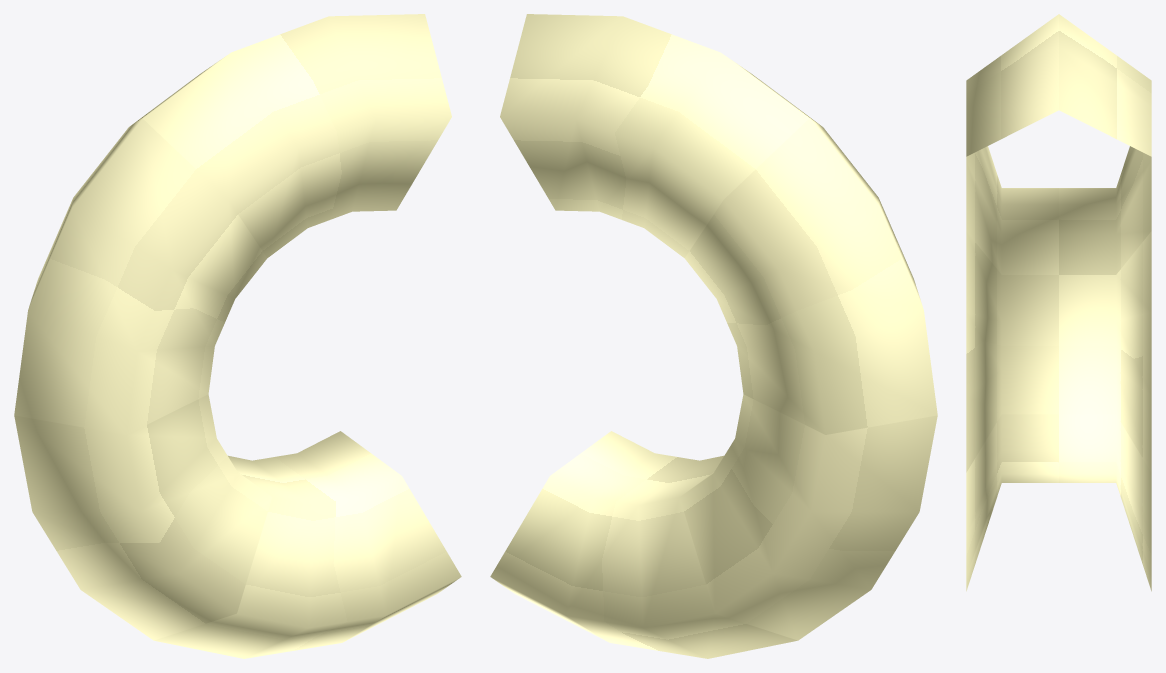
Rendered from luna.glb.
3 views of the same model, side by side, from view 1: azimuth 30°, elevation 25°; view 2: azimuth 150°, elevation 25°; view 3: azimuth 270°, elevation 25° (orthographic). The views are drawn at different scales.
Visible parts, largest first — view 1: luna; view 2: luna; view 3: luna.
Boxes of the visible parts, x1=… form: luna: x1=14, y1=14, x2=461, y2=658; luna: x1=490, y1=14, x2=937, y2=658; luna: x1=966, y1=14, x2=1151, y2=591.
Bounding box in the file's own units: 0.561 × 0.7981 × 0.2283.
Materials: 1 (1 with a texture image).
